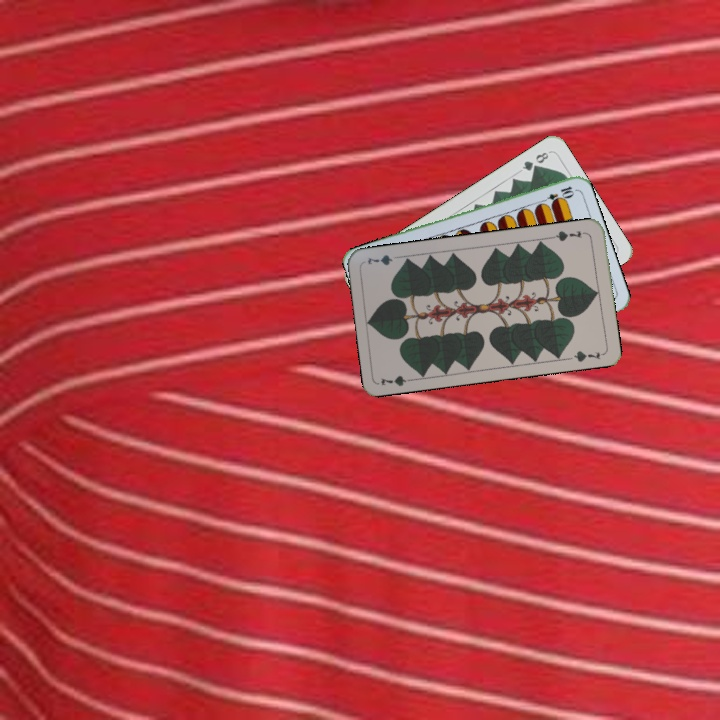E10: (537, 182, 576, 206)
G7: (549, 226, 589, 244), (377, 372, 418, 389)
G8: (518, 148, 551, 174)
